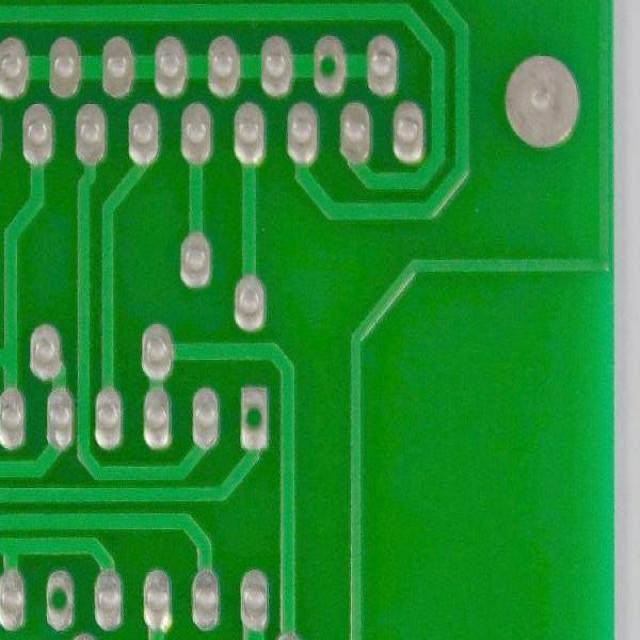missing hole: (236, 376, 276, 460), (39, 564, 79, 637), (310, 32, 351, 99)
